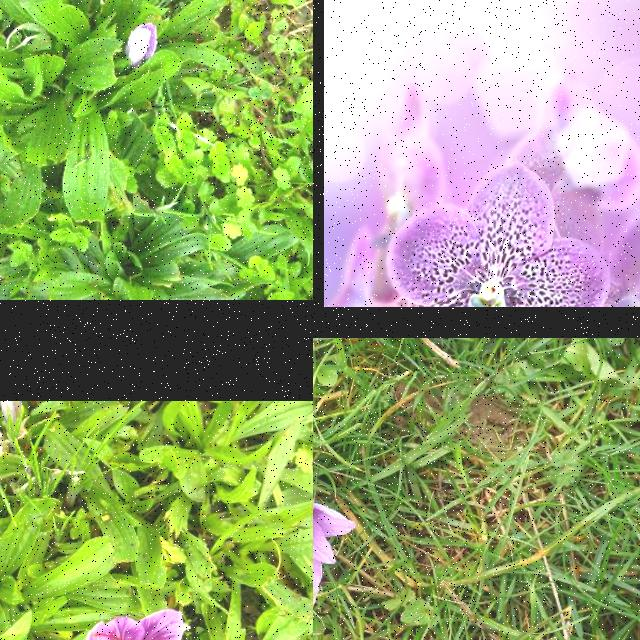flower: (313, 488, 354, 595), (86, 610, 195, 640), (127, 23, 157, 67)
